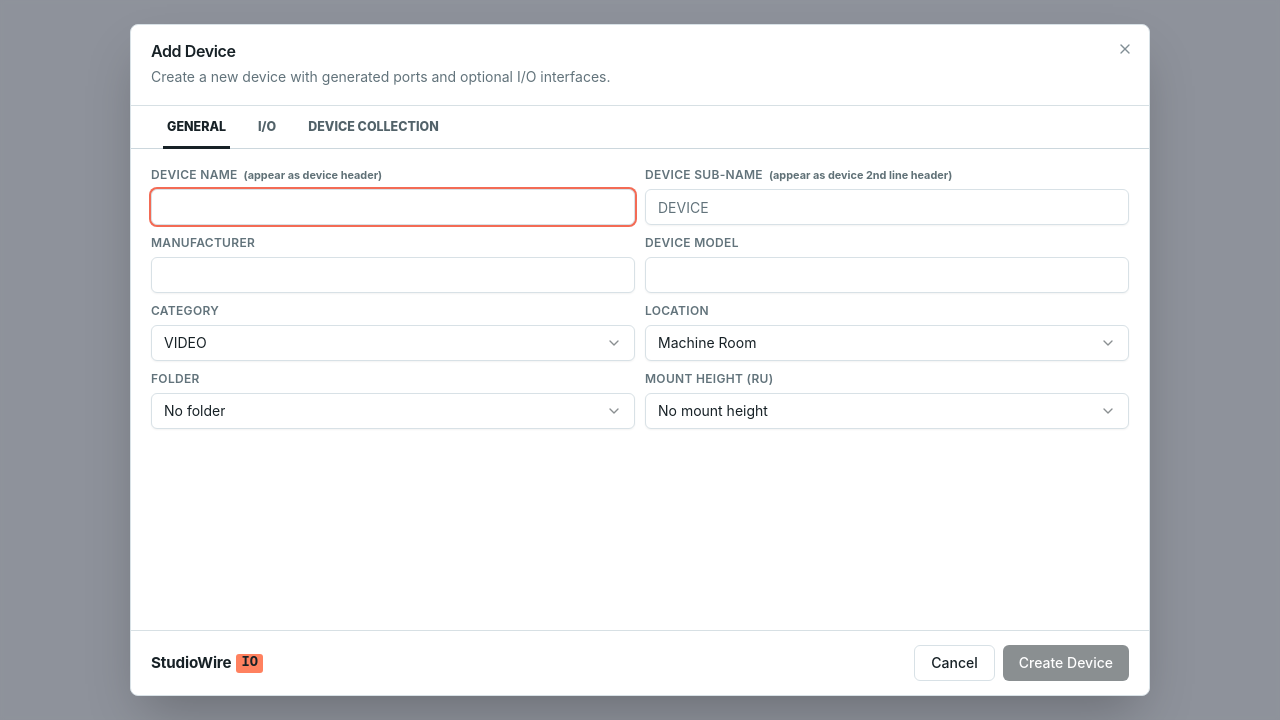
Test case: AddDeviceModal › opens the I/O tab with every initial interface collapsed
Click the tab "I/O" at coordinates (267, 127), box [242, 106, 292, 148]
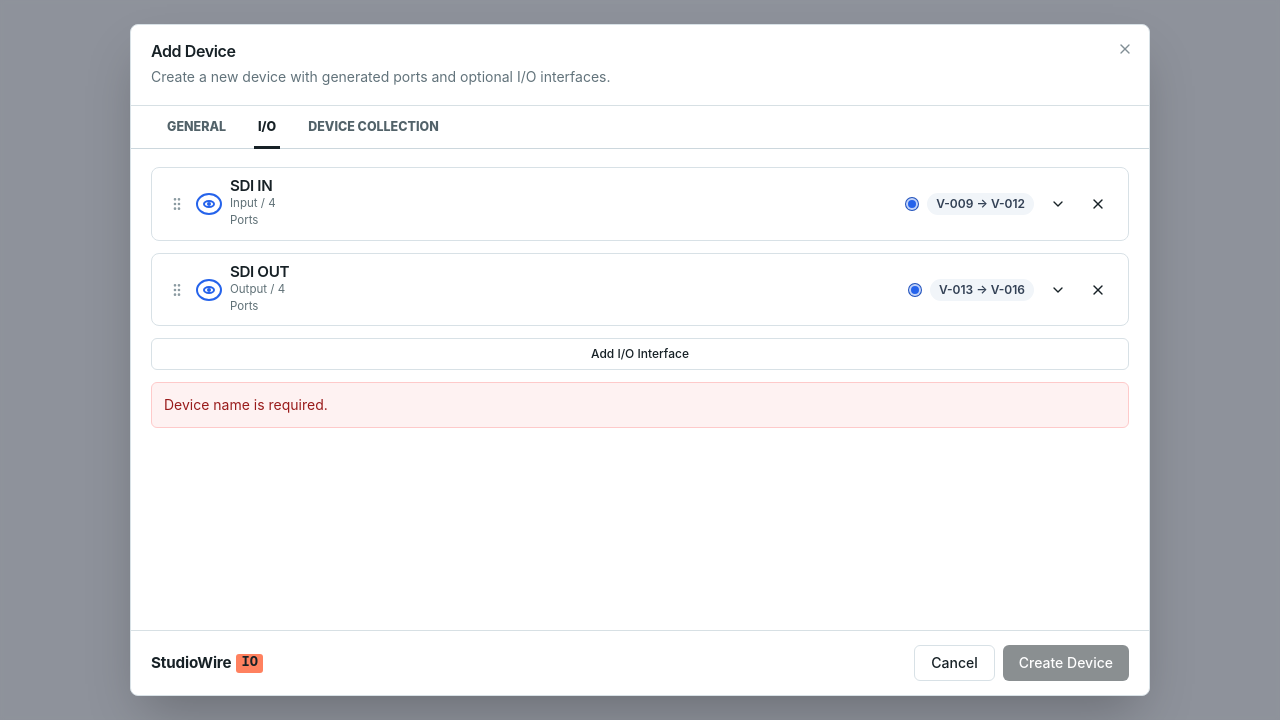
Now the button "Add I/O Interface" is shown, box [151, 338, 1129, 370]
Now the button named "Expand SDI IN" is shown
Now the button named "Expand SDI OUT" is shown, box [1042, 274, 1074, 306]
Click the button named "Expand SDI IN" at coordinates (1058, 204), box [1042, 188, 1074, 220]
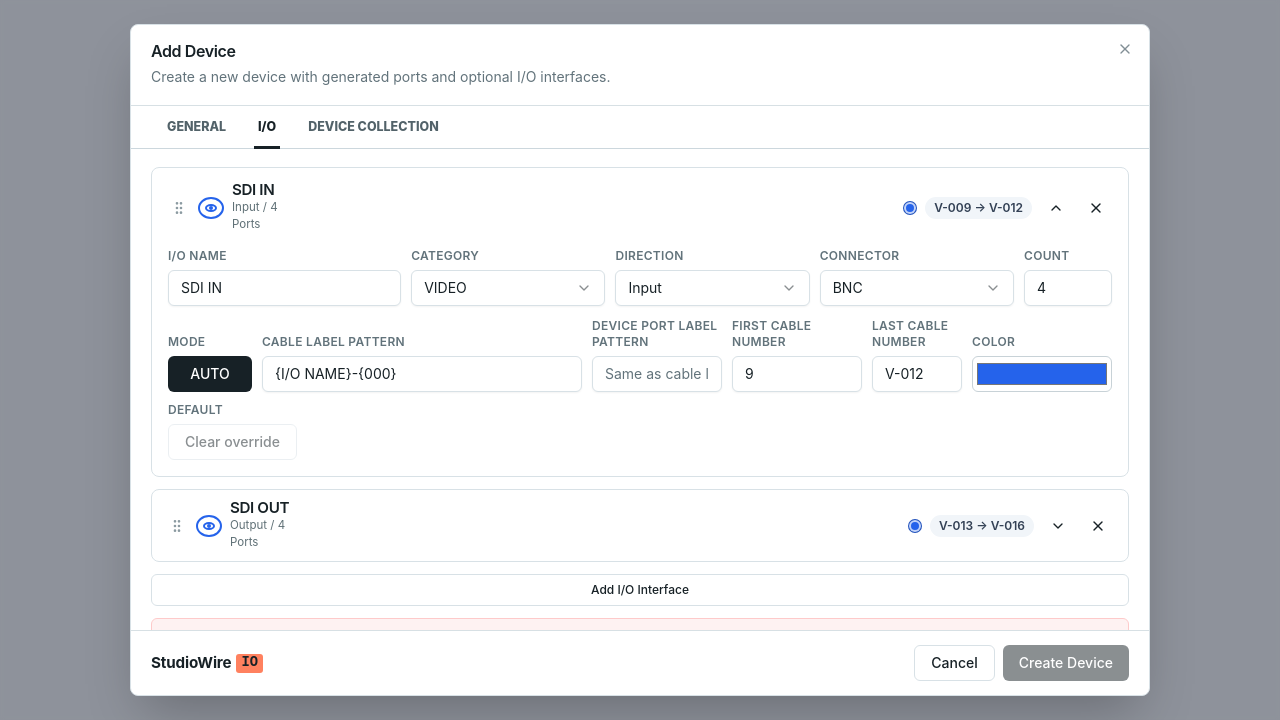
Click the button named "Expand SDI OUT" at coordinates (1058, 526), box [1042, 510, 1074, 542]
(page scrolled)
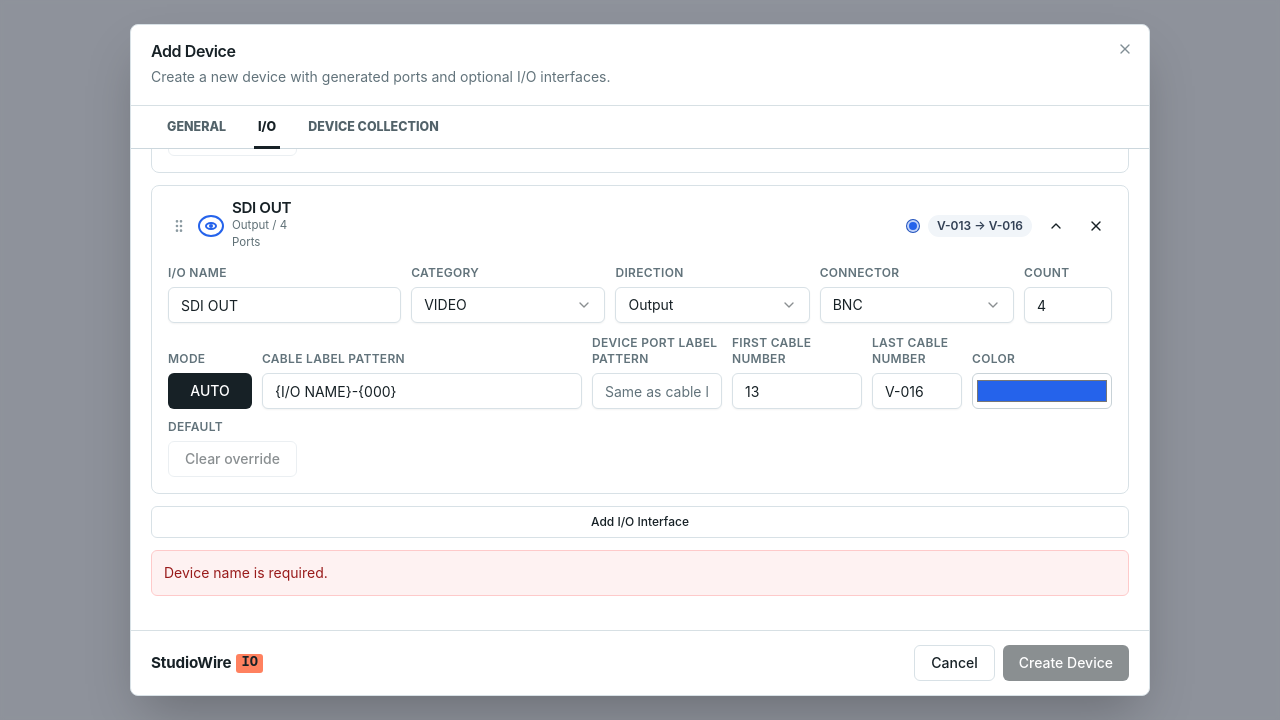
Now the number of fields showing "{I/O NAME}-{000}" is 2
Now the number of fields labelled "I/O Name" is 2
Click the button "Add I/O Interface" at coordinates (640, 522), box [151, 506, 1129, 538]
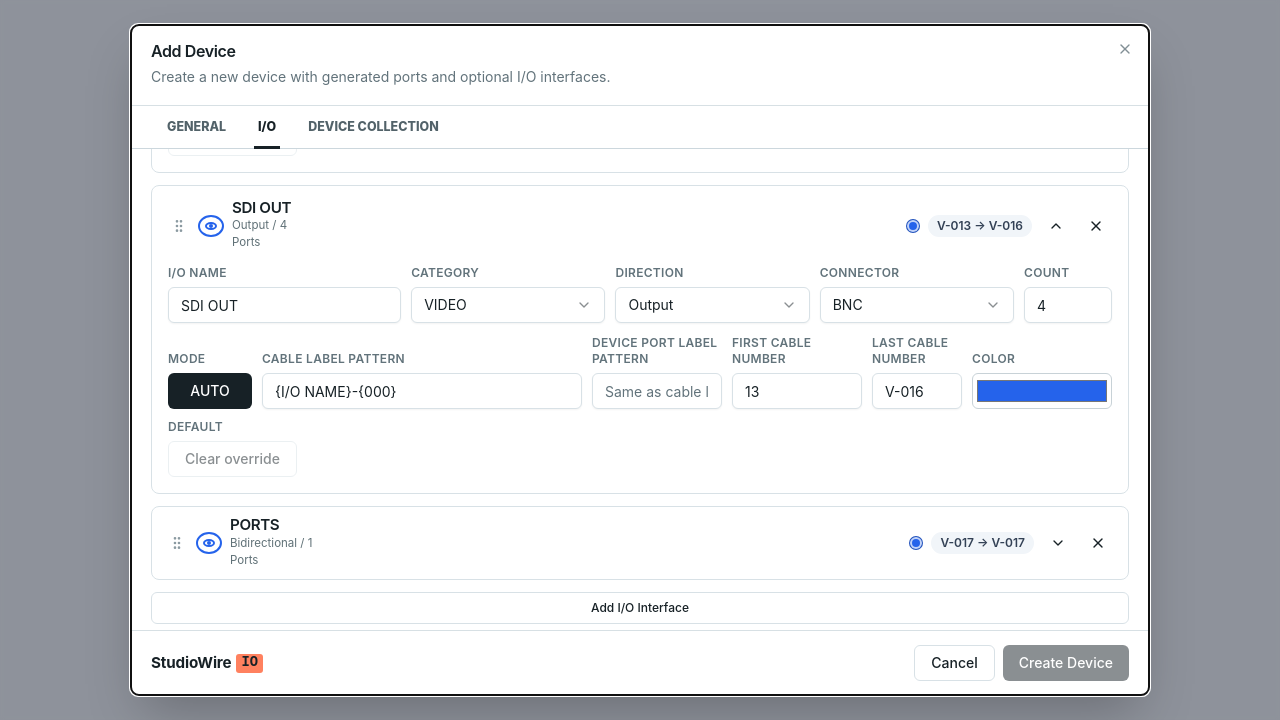
Now the number of fields labelled "I/O Name" is 2
Now the button named "Expand PORTS" is shown, box [1042, 527, 1074, 559]
